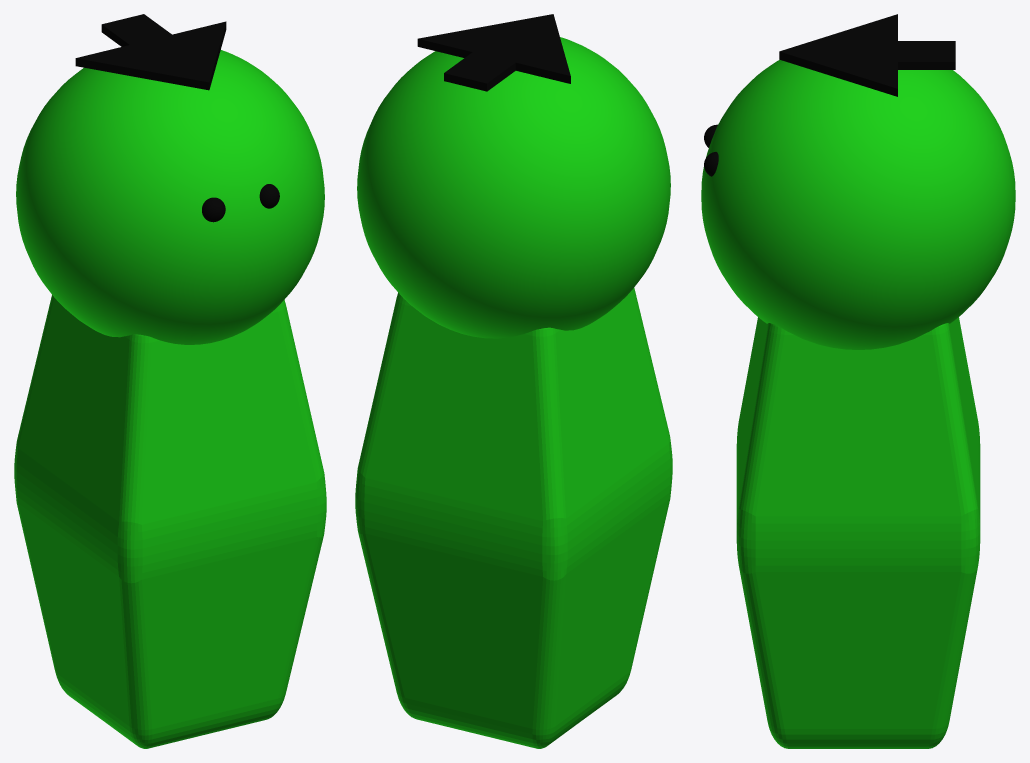
3 renders of one model, left to right at view 1: azimuth 30°, elevation 25°; view 2: azimuth 150°, elevation 25°; view 3: azimuth 270°, elevation 25°, orthographic.
Parts seen in each view (by area): view 1: Cube.006_Cube.012_Material.001, Cube.006_Cube.012_SVGMat; view 2: Cube.006_Cube.012_Material.001, Cube.006_Cube.012_SVGMat; view 3: Cube.006_Cube.012_Material.001, Cube.006_Cube.012_SVGMat.
Boxes of the visible parts, left/top/right/bottom form: Cube.006_Cube.012_Material.001: left=14, top=50, right=326, bottom=748; Cube.006_Cube.012_SVGMat: left=75, top=14, right=279, bottom=222; Cube.006_Cube.012_Material.001: left=355, top=37, right=672, bottom=748; Cube.006_Cube.012_SVGMat: left=417, top=14, right=570, bottom=91; Cube.006_Cube.012_Material.001: left=701, top=59, right=1015, bottom=748; Cube.006_Cube.012_SVGMat: left=704, top=14, right=955, bottom=176.
Size of the model in its own units: 0.2062 by 0.482 by 0.2057.
